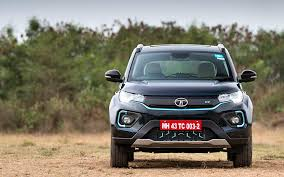Tata Nexon: (104, 41, 258, 169)
